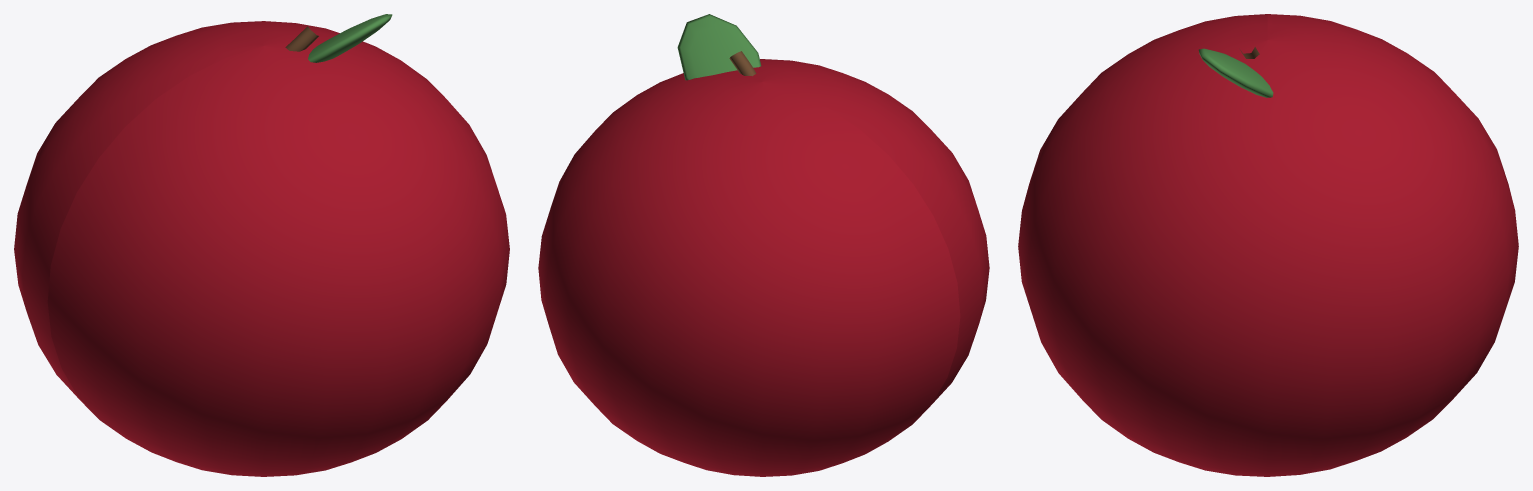
Rendered from cherry.glb.
3 views of the same model, side by side, from view 1: azimuth 30°, elevation 25°; view 2: azimuth 150°, elevation 25°; view 3: azimuth 270°, elevation 25° (orthographic). The views are drawn at different scales.
Parts seen in each view (by area): view 1: cherry; view 2: cherry; view 3: cherry.
Boxes of the visible parts, x1=… form: cherry: x1=14, y1=14, x2=509, y2=476; cherry: x1=538, y1=14, x2=989, y2=476; cherry: x1=1018, y1=14, x2=1518, y2=476.
Size of the model in its own units: 1 by 0.9704 by 1.
